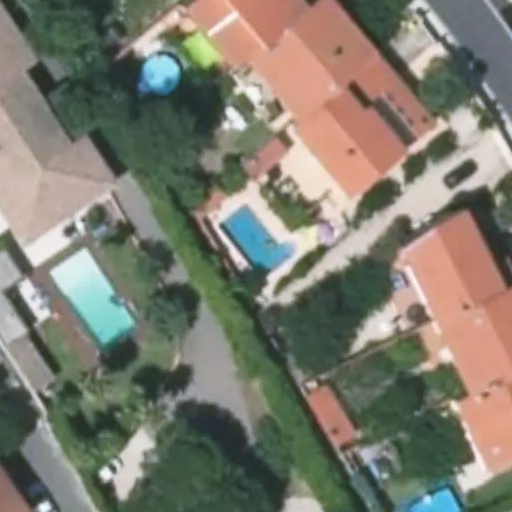pool: (219, 223, 291, 260)
